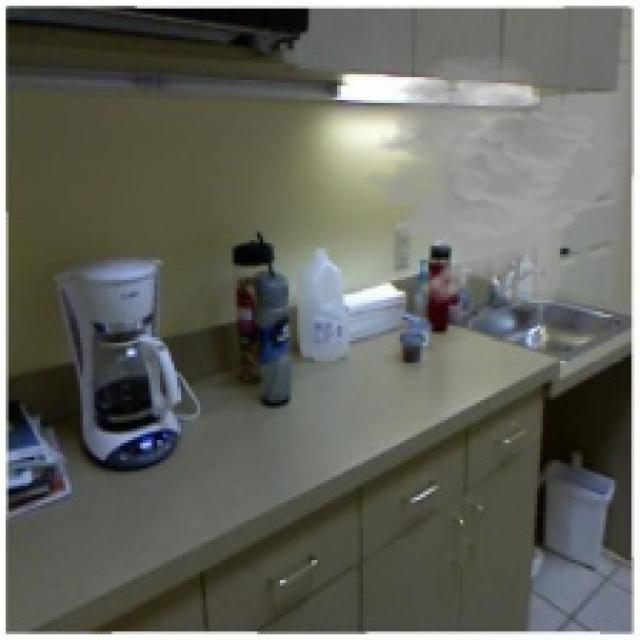smoke: (352, 52, 634, 314)
